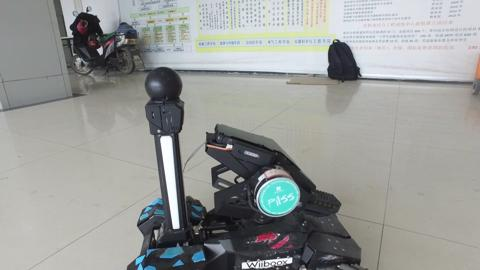bag: (314, 31, 365, 89)
chariot: (119, 61, 366, 270)
